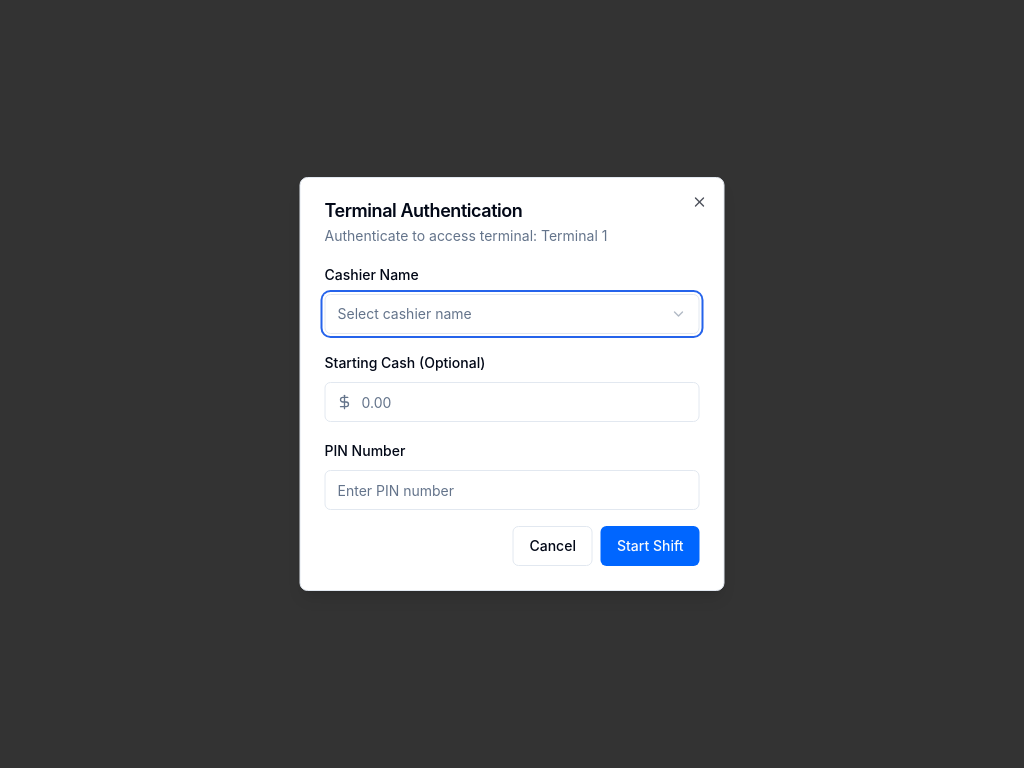
4.9-COMPONENT: TerminalAuthModal Component › [P1] 4.9-COMPONENT-014: should validate that cashier name is required
# PIN is filled but cashier name is not selected
Type "1234" into the password field with test id "pin-number-input".
click(512, 490); type("1234")  # box x1=324 y1=470 x2=700 y2=510
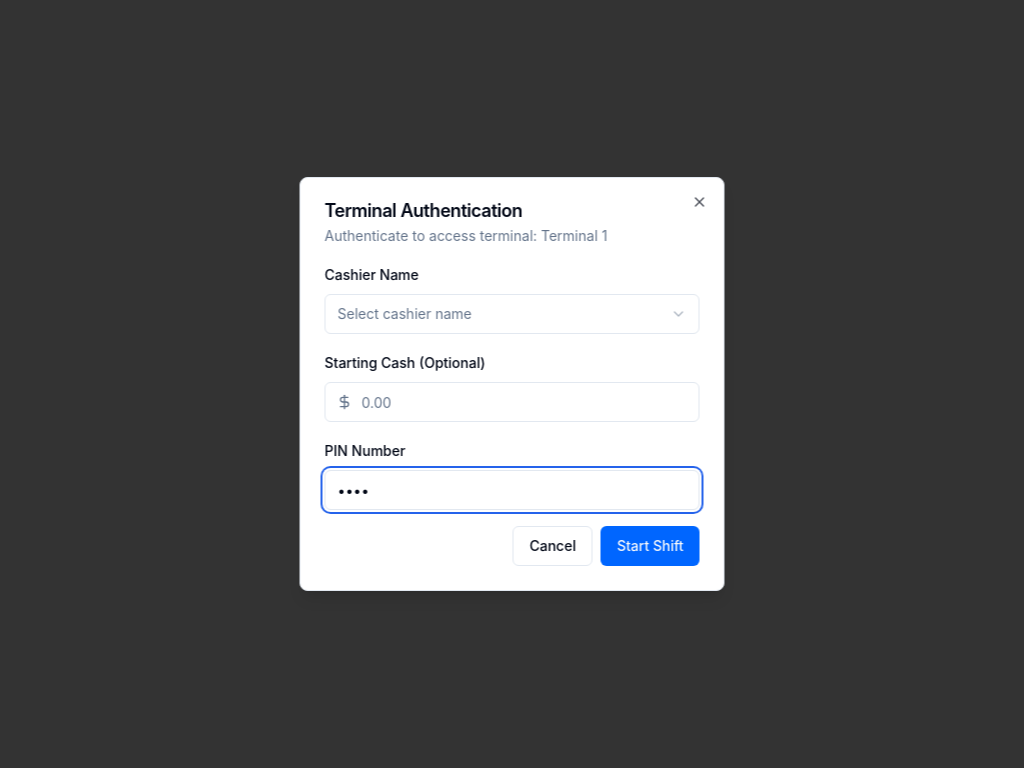
# Form is submitted without cashier name
Click the button with test id "terminal-auth-submit-button".
click(650, 546)  # box x1=601 y1=526 x2=700 y2=566
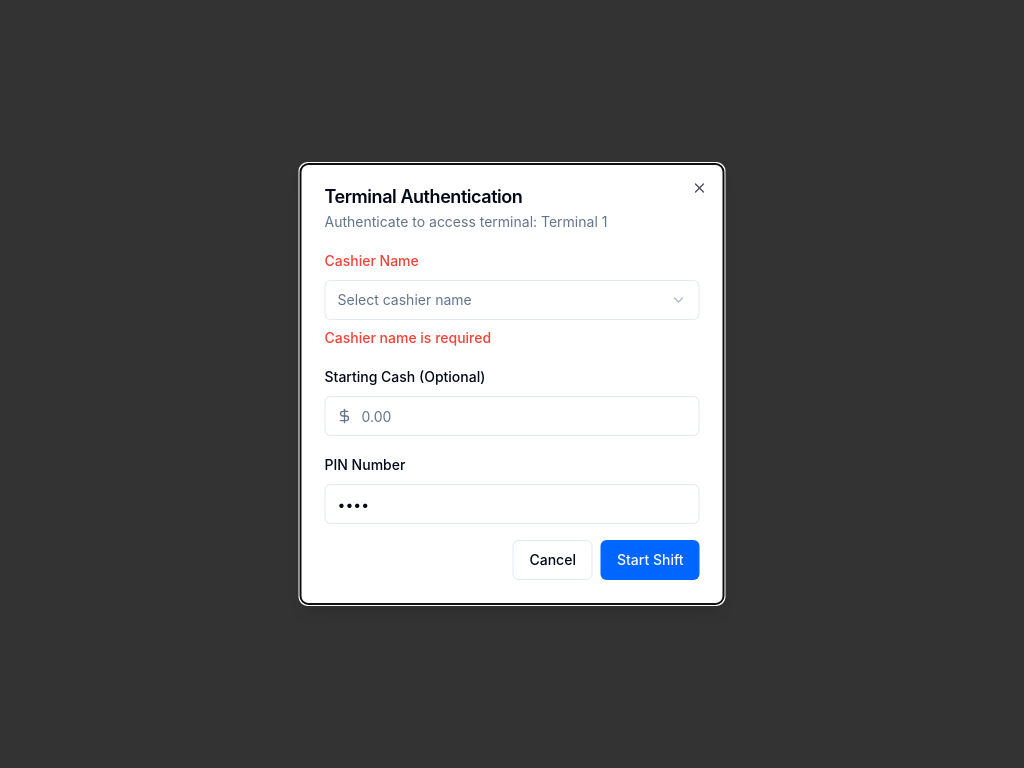
Now the text "Cashier name is required" is shown, box x1=324 y1=329 x2=491 y2=346
